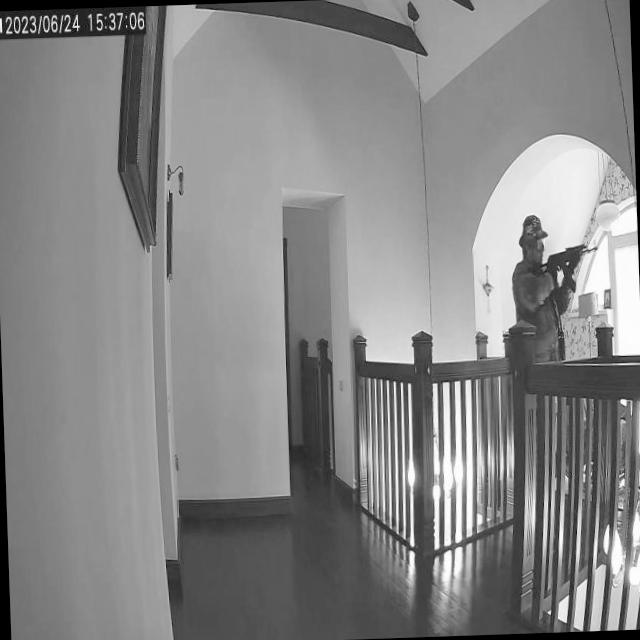gun: (529, 238, 605, 288)
person with a gun: (494, 214, 605, 352)
